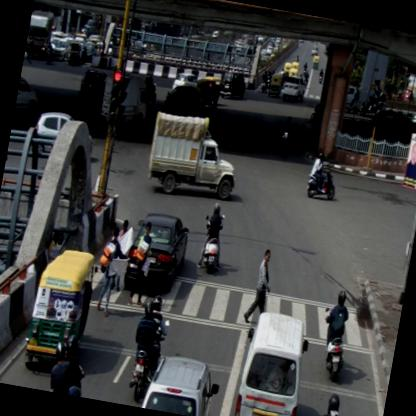car: (228, 308, 314, 415), (122, 207, 191, 296), (138, 349, 223, 415), (13, 76, 41, 122), (164, 84, 202, 113), (218, 71, 248, 101), (282, 73, 307, 102), (50, 33, 73, 62)
motorcycle: (127, 292, 174, 404), (318, 288, 354, 382), (45, 332, 91, 395), (195, 201, 228, 278), (306, 153, 340, 201), (308, 390, 352, 415), (277, 114, 295, 155)
truck: (142, 108, 244, 204), (24, 6, 54, 62)
